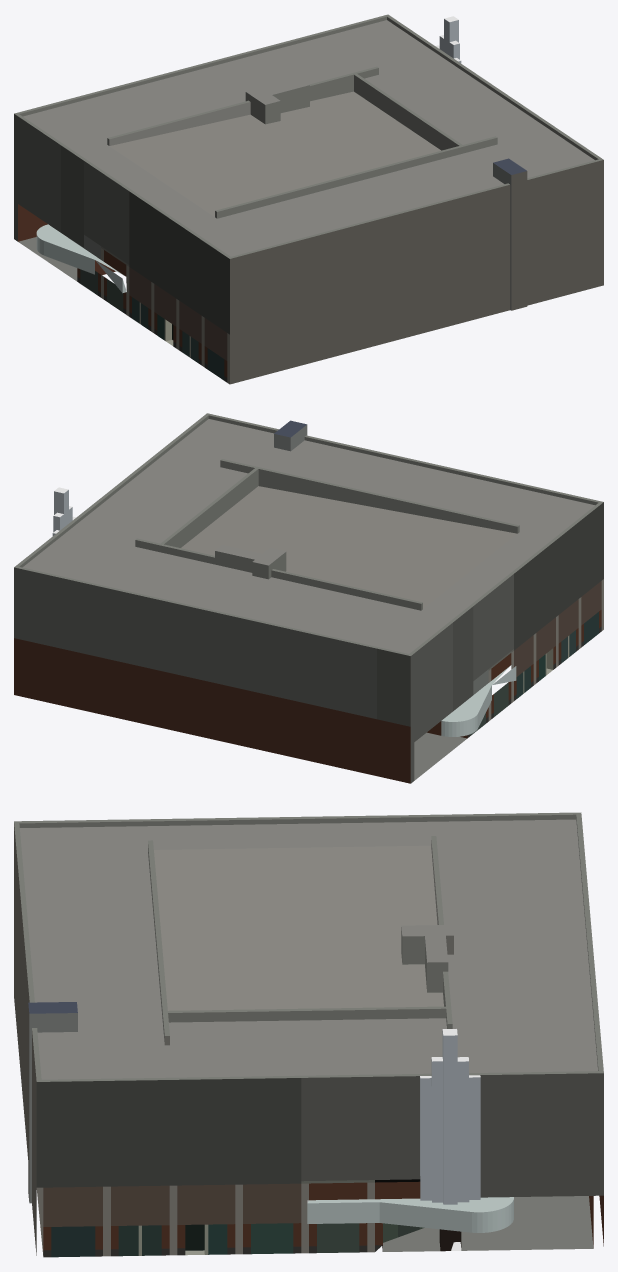
File: bijou-theatre.glb
3 views of the same model, one above another, from view 1: azimuth 30°, elevation 25°; view 2: azimuth 150°, elevation 25°; view 3: azimuth 270°, elevation 25° (orthographic). The views are drawn at different scales.
Parts seen in each view (by area): view 1: LOD0; view 2: LOD0; view 3: LOD0.
Boxes of the visible parts, left/top/right/bottom form: LOD0: left=14, top=14, right=603, bottom=384; LOD0: left=14, top=413, right=603, bottom=783; LOD0: left=14, top=812, right=603, bottom=1257.
Size of what is drawn, in the model's own units: 79.99 by 28.56 by 68.74.
2 materials, 2 textured.
